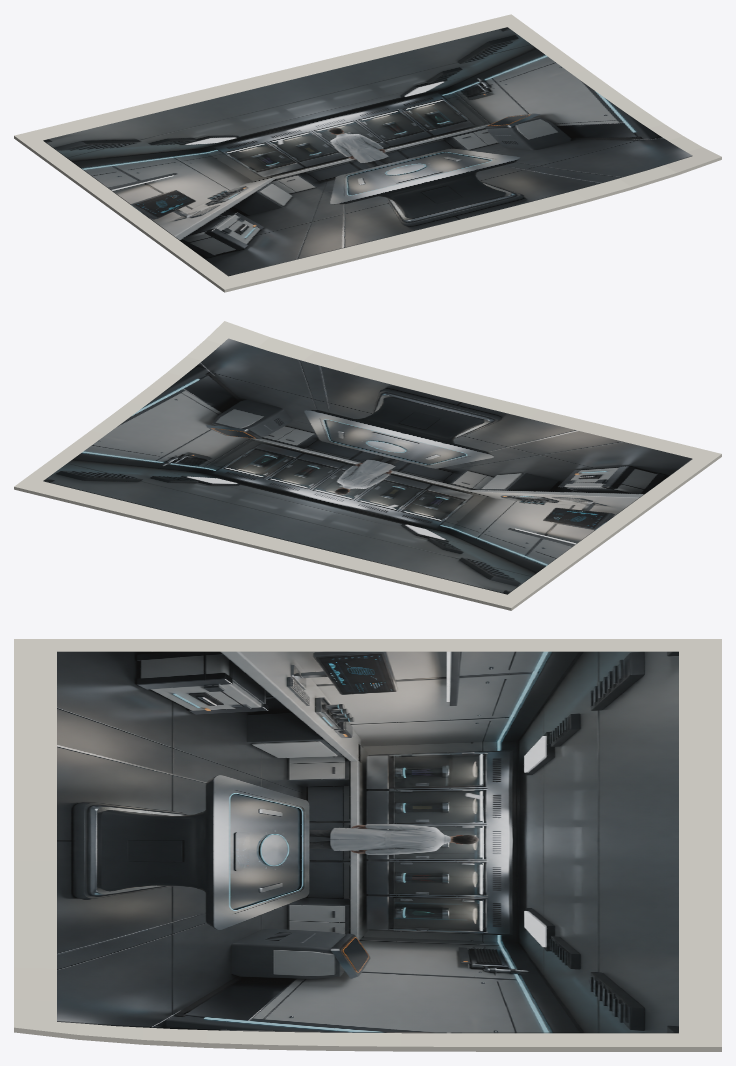
The model's file is ZH_PROP_ANOMALY_AnomalyPhotograph.fbx.
3 renders of one model, top to bottom at view 1: azimuth 30°, elevation 25°; view 2: azimuth 150°, elevation 25°; view 3: azimuth 270°, elevation 25°, orthographic. The views are drawn at different scales.
Parts seen in each view (by area): view 1: Photo | print.001, Photo | paper.001; view 2: Photo | print.001, Photo | paper.001; view 3: Photo | print.001, Photo | paper.001.
Boxes of the visible parts, x1,y1,x2,y2 form: Photo | print.001: (43,27,692,276); Photo | paper.001: (14,14,721,292); Photo | print.001: (43,338,692,594); Photo | paper.001: (14,321,721,610); Photo | print.001: (57,651,678,1033); Photo | paper.001: (14,639,721,1051).
Bounding box in the file's own units: 0.18 × 0.005 × 0.132.
2 materials, 1 textured.
